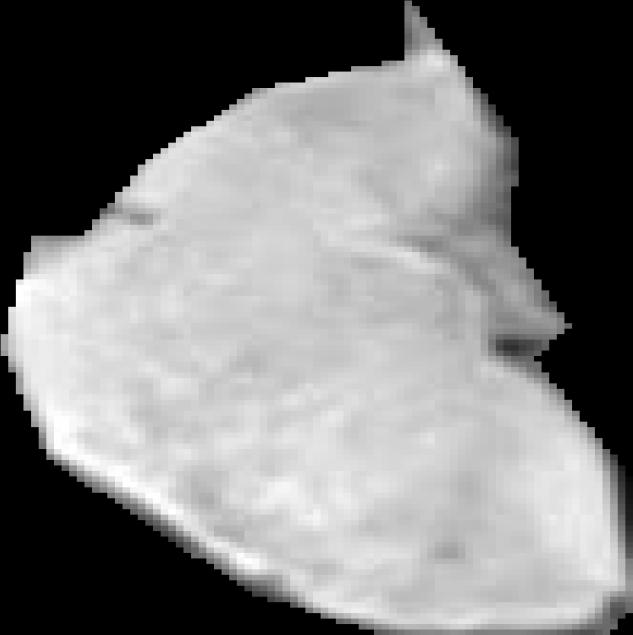tumor_less_chance: (1, 0, 633, 635)
